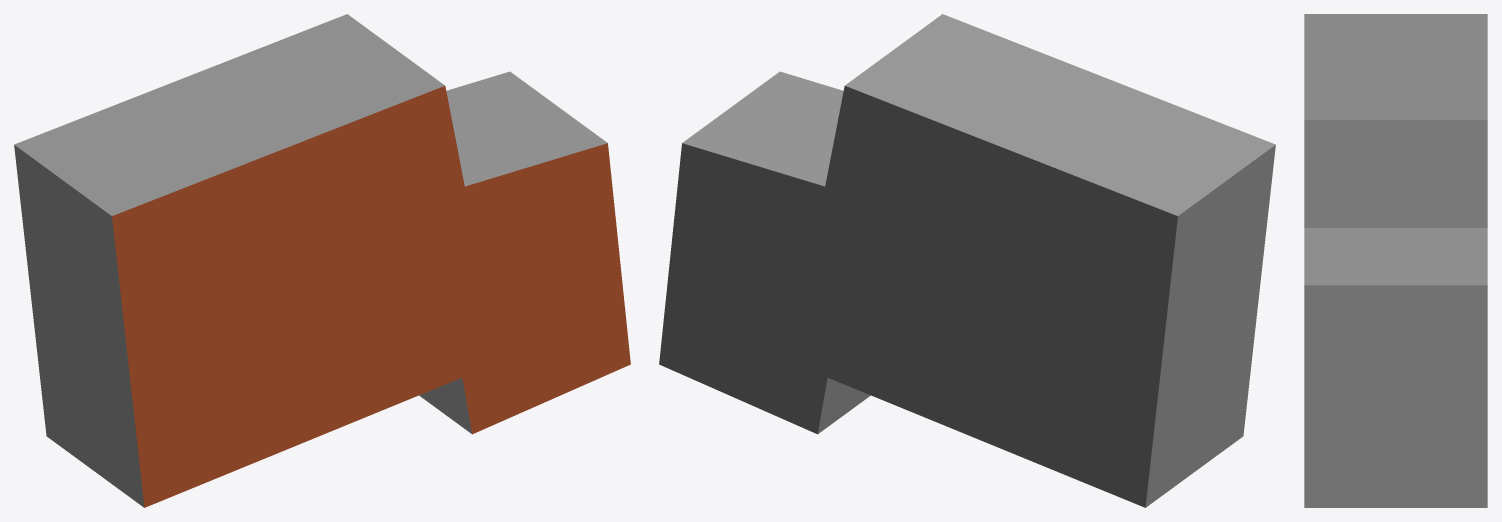
The model's file is construction_6296_assumed_A_Casa_h6m.obj.
3 views of the same model, side by side, from view 1: azimuth 30°, elevation 25°; view 2: azimuth 150°, elevation 25°; view 3: azimuth 270°, elevation 25° (orthographic). The views are drawn at different scales.
Parts seen in each view (by area): view 1: construction_6296_assumed_A_Casa; view 2: construction_6296_assumed_A_Casa; view 3: construction_6296_assumed_A_Casa.
Boxes of the visible parts, x1,y1,x2,y2 form: construction_6296_assumed_A_Casa: (14, 14, 630, 507); construction_6296_assumed_A_Casa: (659, 14, 1275, 507); construction_6296_assumed_A_Casa: (1304, 14, 1487, 507).
Bounding box in the file's own units: 18.36 × 12.01 × 6.
